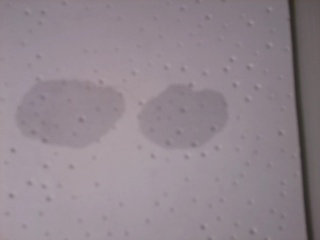Water_detected: (38, 87, 197, 138)
